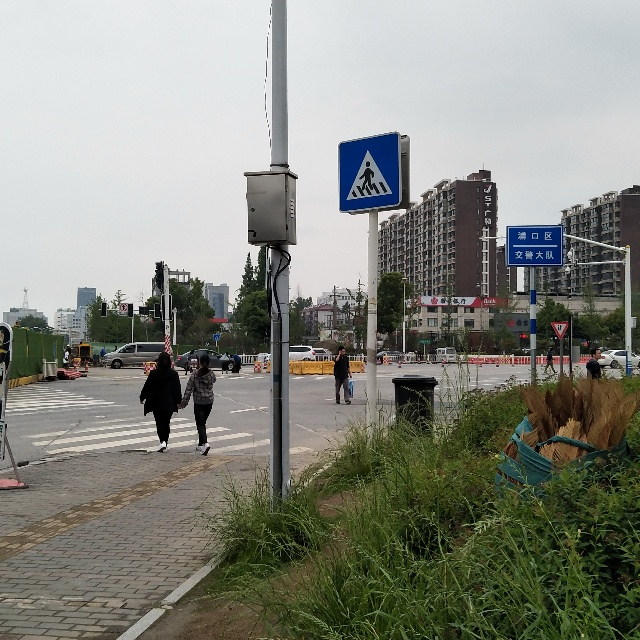crosswalk: (338, 139, 404, 211)
